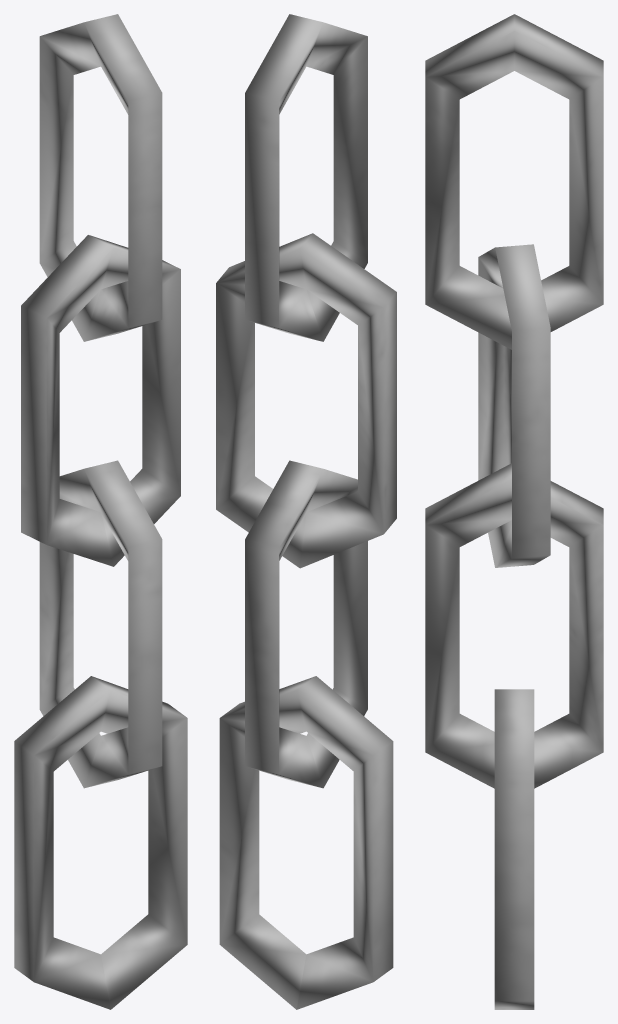
The model's file is SM_Fluorescent_Light_Chain_Small_01a.fbx.
The picture shows the model from 3 angles, left to right: view 1: azimuth 30°, elevation 25°; view 2: azimuth 150°, elevation 25°; view 3: azimuth 270°, elevation 25°; orthographic projection.
Parts seen in each view (by area): view 1: SM_Fluorescent_Light_Chain_Small_01a_LOD0; view 2: SM_Fluorescent_Light_Chain_Small_01a_LOD0; view 3: SM_Fluorescent_Light_Chain_Small_01a_LOD0.
Part boxes in pixels (x1,y1,x2,y2): SM_Fluorescent_Light_Chain_Small_01a_LOD0: [14, 14, 187, 1009]; SM_Fluorescent_Light_Chain_Small_01a_LOD0: [216, 14, 396, 1009]; SM_Fluorescent_Light_Chain_Small_01a_LOD0: [425, 14, 603, 1009].
Bounding box in the file's own units: 0.9423 × 0.9204 × 5.63.
1 material, 1 textured.
